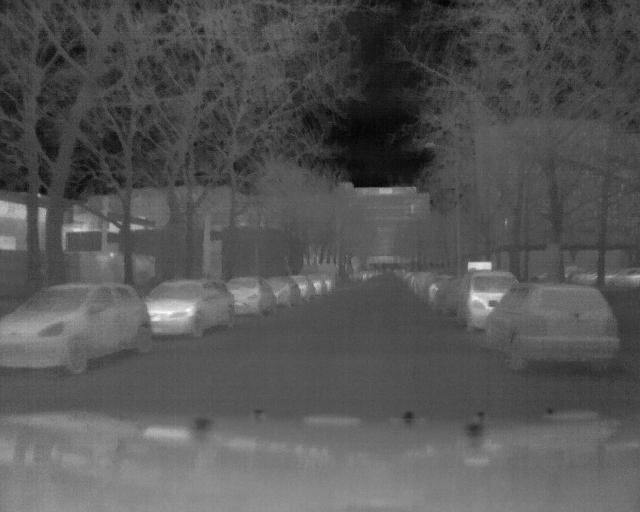car: (477, 272, 619, 380), (1, 277, 146, 375), (148, 274, 233, 338), (453, 262, 502, 331), (231, 271, 275, 322)
